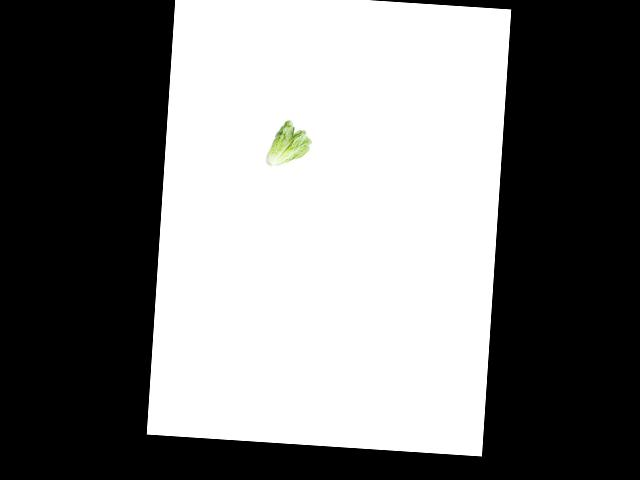lettuce: (264, 119, 319, 170)
